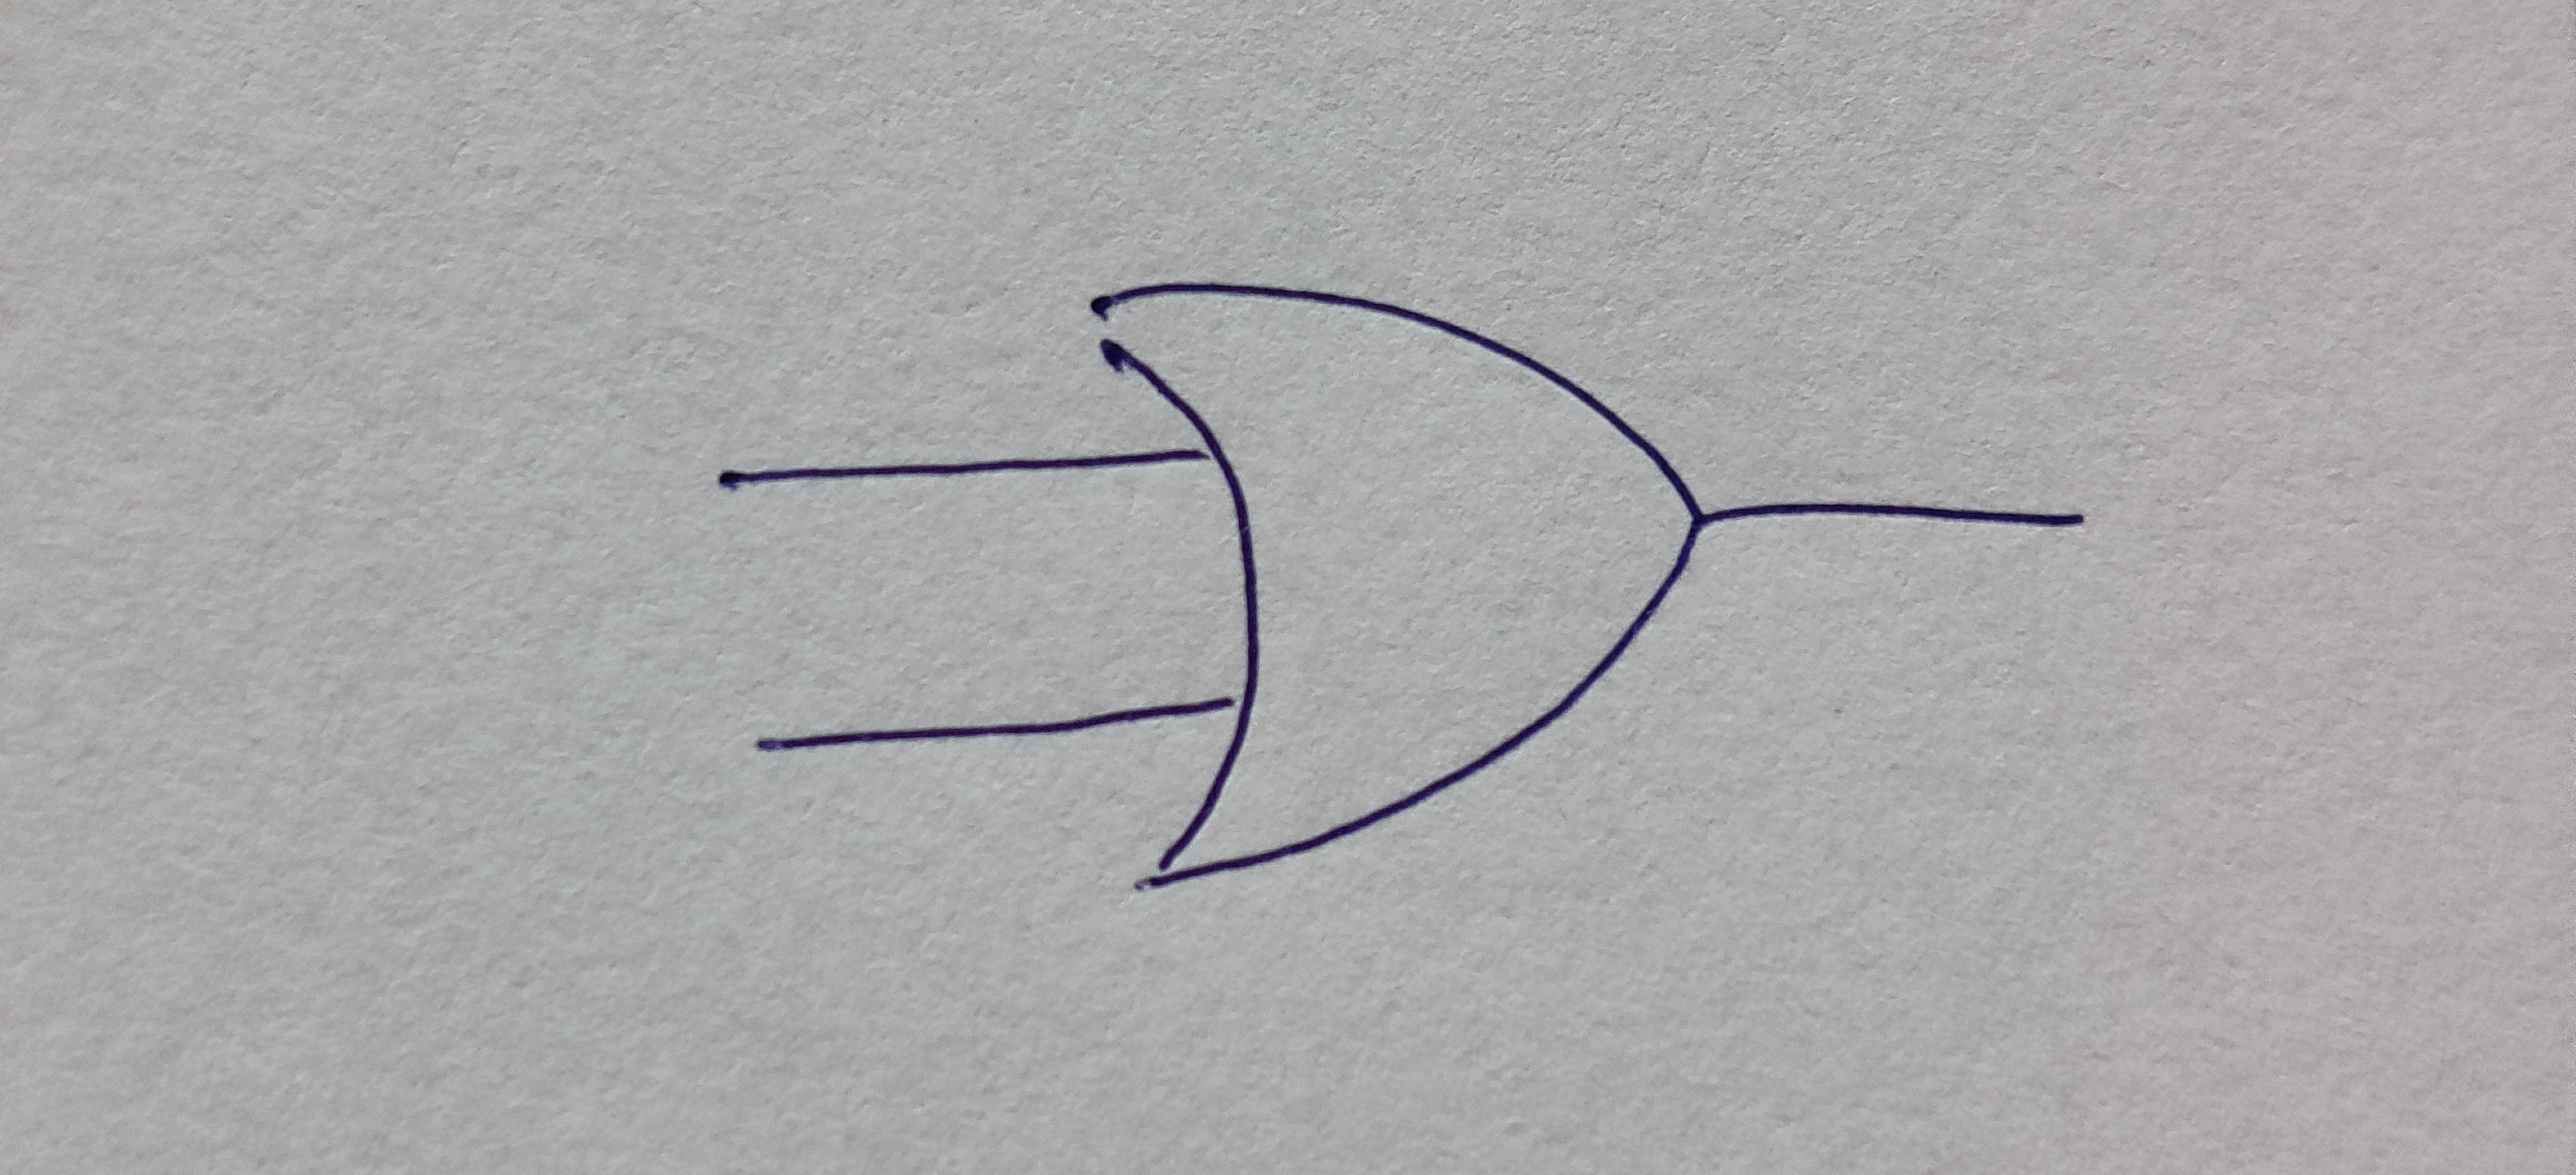or: (1092, 283, 1699, 886)
